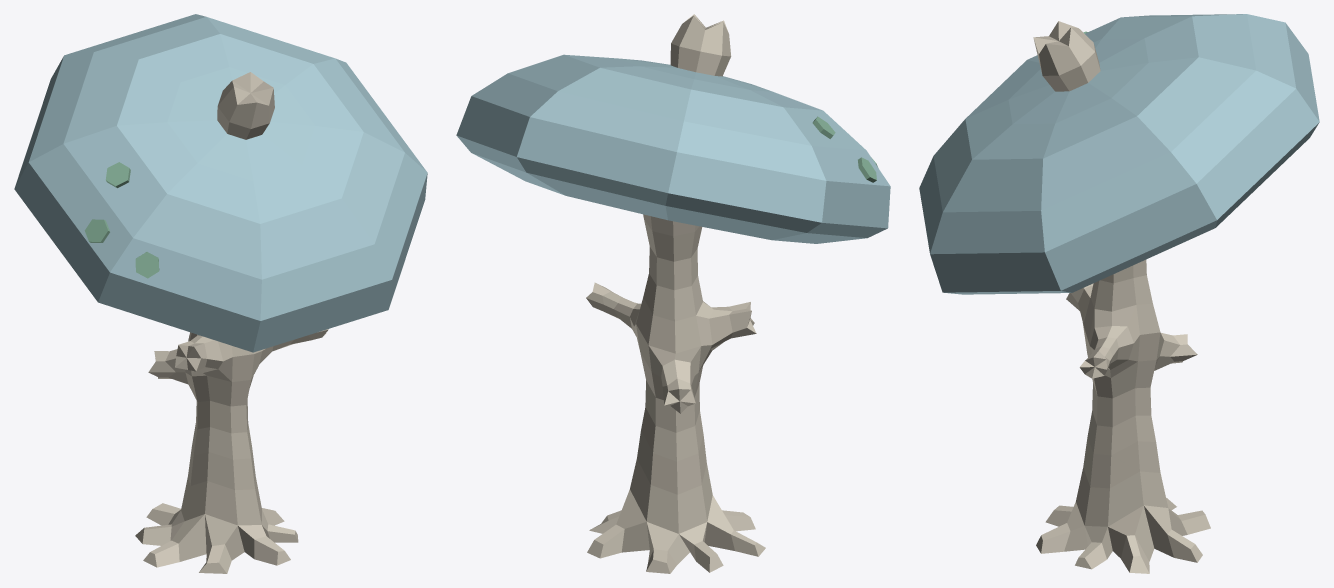
File: Tree2b.fbx
The picture shows the model from 3 angles, left to right: view 1: azimuth 30°, elevation 25°; view 2: azimuth 150°, elevation 25°; view 3: azimuth 270°, elevation 25°; orthographic projection. The views are drawn at different scales.
Parts seen in each view (by area): view 1: Circle; view 2: Circle; view 3: Circle.
Part boxes in pixels (<box>): Circle: <box>14,14,427,573</box>; Circle: <box>456,14,890,573</box>; Circle: <box>919,14,1319,573</box>.
Size of the model in its own units: 301 by 399 by 282.
